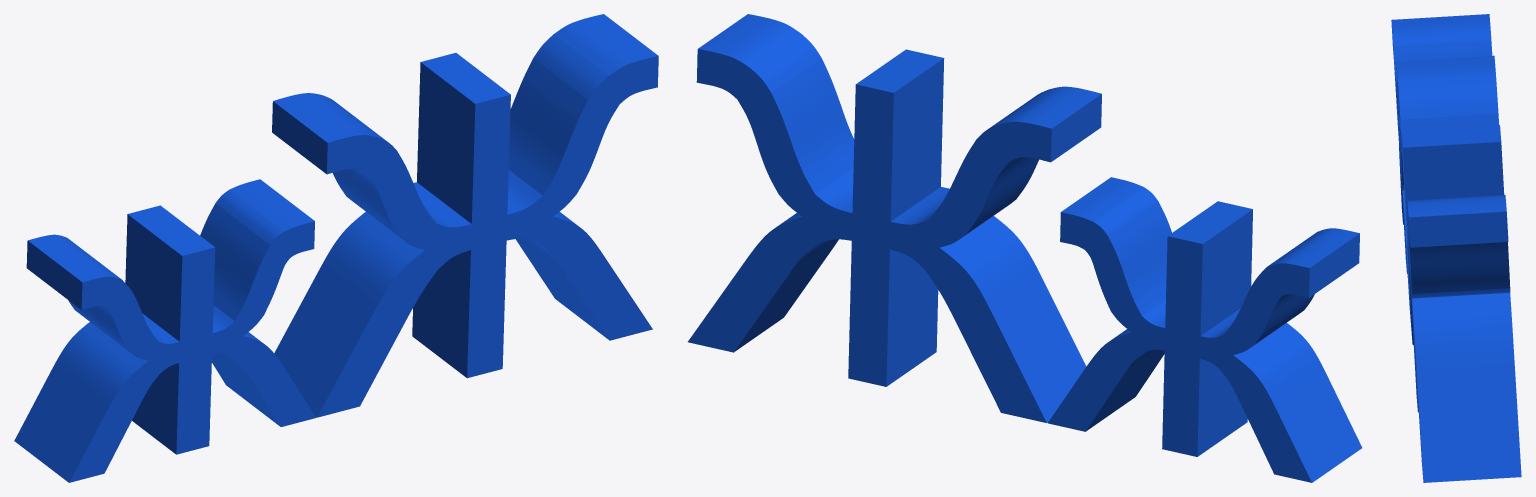
3 views of the same model, side by side, from view 1: azimuth 30°, elevation 25°; view 2: azimuth 150°, elevation 25°; view 3: azimuth 270°, elevation 25° (orthographic). The views are drawn at different scales.
Visible parts, largest first — view 1: Mesh_0.007; view 2: Mesh_0.007; view 3: Mesh_0.007.
Boxes of the visible parts, x1=… form: Mesh_0.007: x1=14, y1=14, x2=658, y2=482; Mesh_0.007: x1=688, y1=14, x2=1362, y2=482; Mesh_0.007: x1=1391, y1=14, x2=1521, y2=482.
Size of the model in its own units: 15.98 by 7.27 by 3.18.
